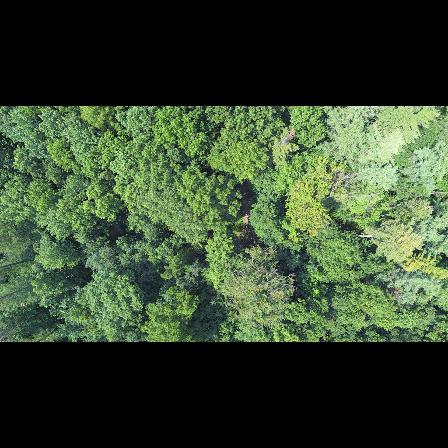Dead: (319, 168, 364, 203)
